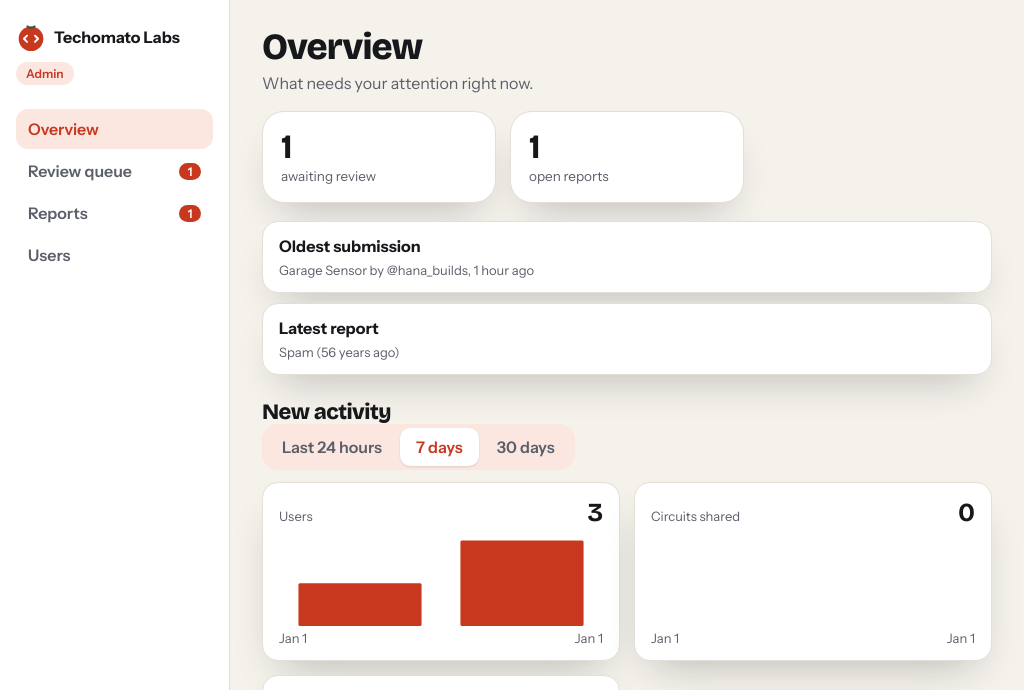
Test: AdminPanelPage › opens on the overview with counts, and the nav switches sections
This screenshot has width=1024, height=690.
Check: the text "awaiting review" is shown, box [281,168,376,184]
Check: the text "Garage Sensor by @hana_builds, 1 hour ago" is shown, box [279,262,534,278]
Step 1. Click the button "Reports 1" → (114, 213), box [16,193,213,233]
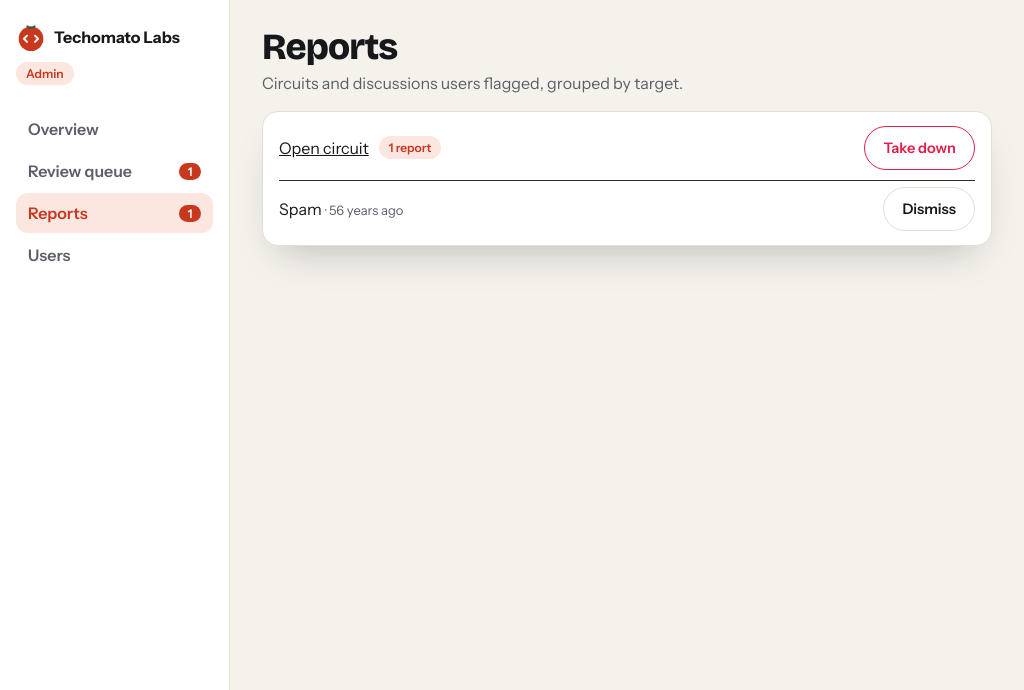
Check: the link "Open circuit" is shown, box [279,138,369,158]
